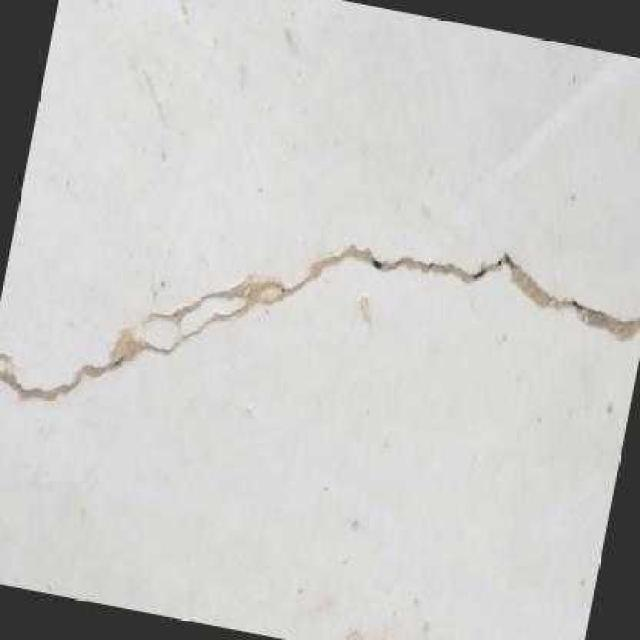D00: (0, 237, 640, 404)
